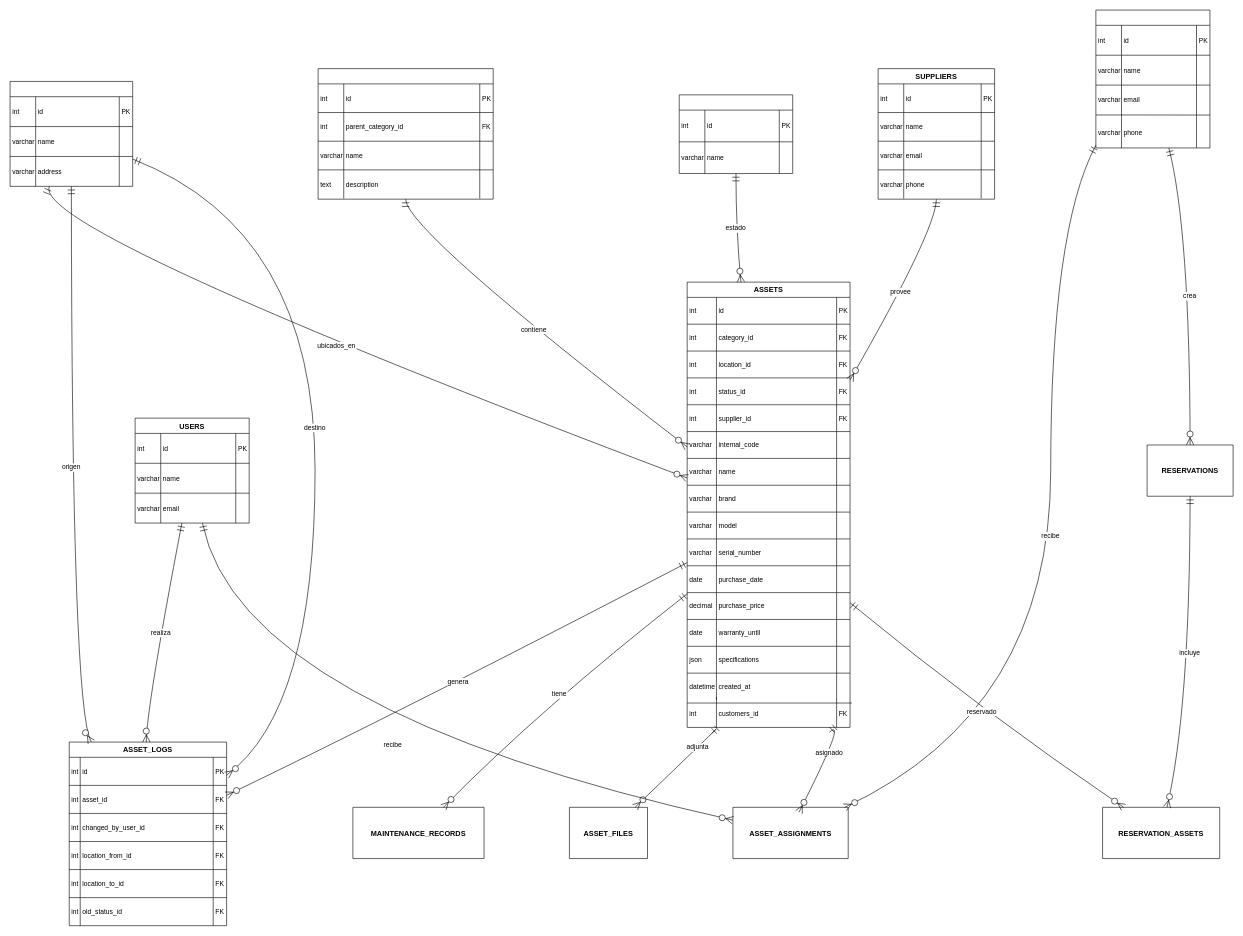
Image size: 1243x936. Some labels were removed from this diagram. The box of each missing label's shape, as (x1, y1, x2, y2) in pixels:
ASSET_STATUSES: (679, 94, 793, 174)
CATEGORIES: (318, 68, 493, 199)
CUSTOMERS: (1095, 9, 1210, 148)
LOCATIONS: (9, 81, 133, 186)
